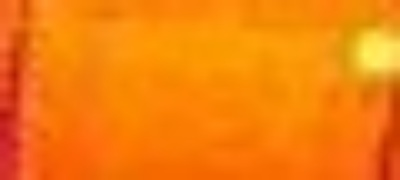Hotspot: (351, 22, 400, 77)
